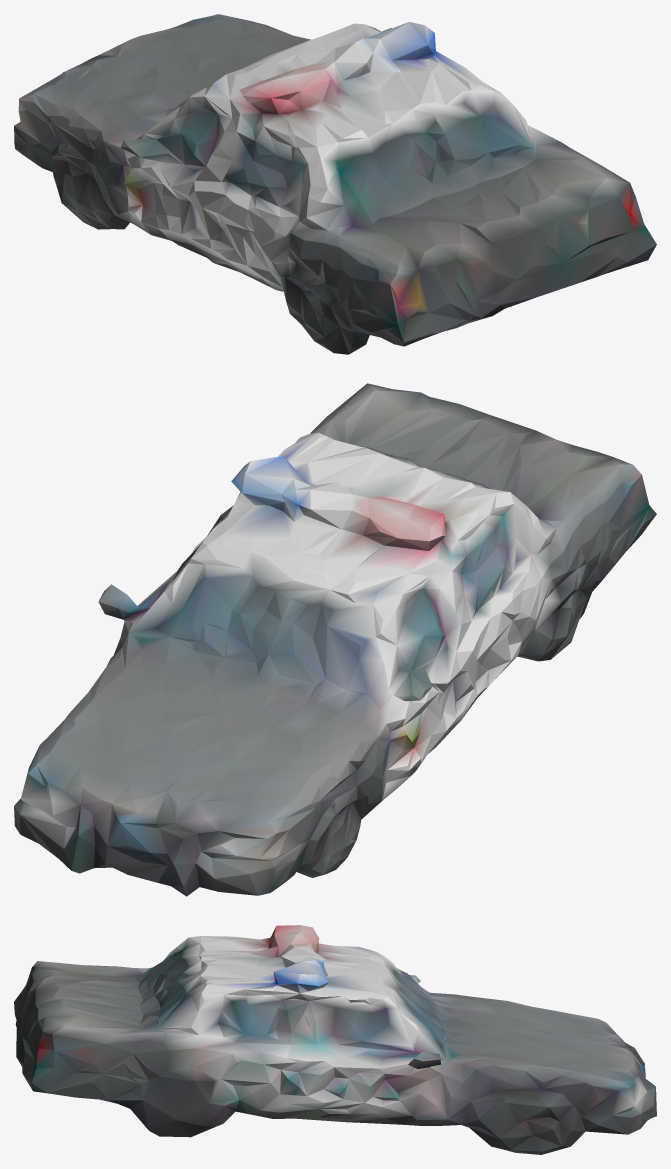
The model's file is police.glb.
The picture shows the model from 3 angles, top to bottom: view 1: azimuth 30°, elevation 25°; view 2: azimuth 150°, elevation 25°; view 3: azimuth 270°, elevation 25°; orthographic projection. The views are drawn at different scales.
Visible parts, largest first — view 1: world; view 2: world; view 3: world.
Part boxes in pixels (x1,y1,x2,y2): world: [14, 14, 656, 354]; world: [14, 383, 656, 896]; world: [14, 925, 656, 1154].
Bounding box in the file's own units: 2 × 1.55 × 4.7.
